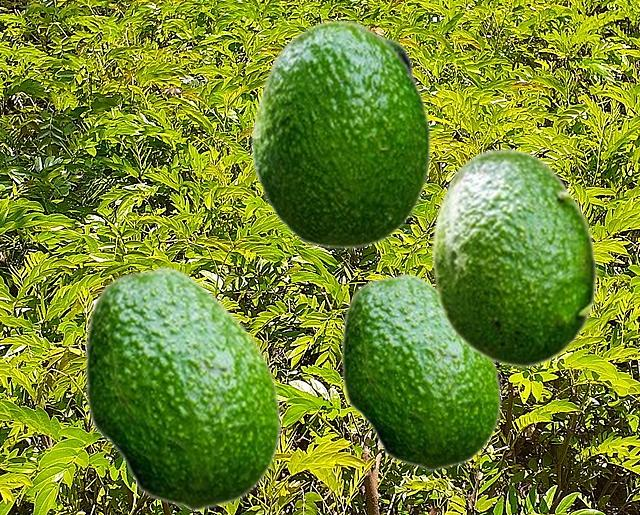avocado: (83, 265, 280, 510), (251, 19, 431, 248), (430, 148, 597, 367), (340, 272, 500, 470)
